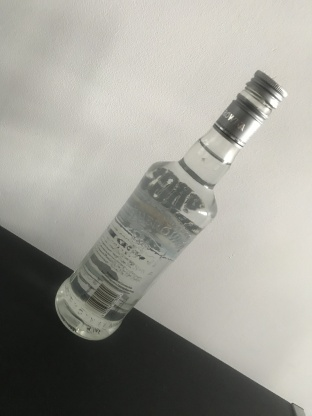nakretka: (211, 67, 289, 150)
